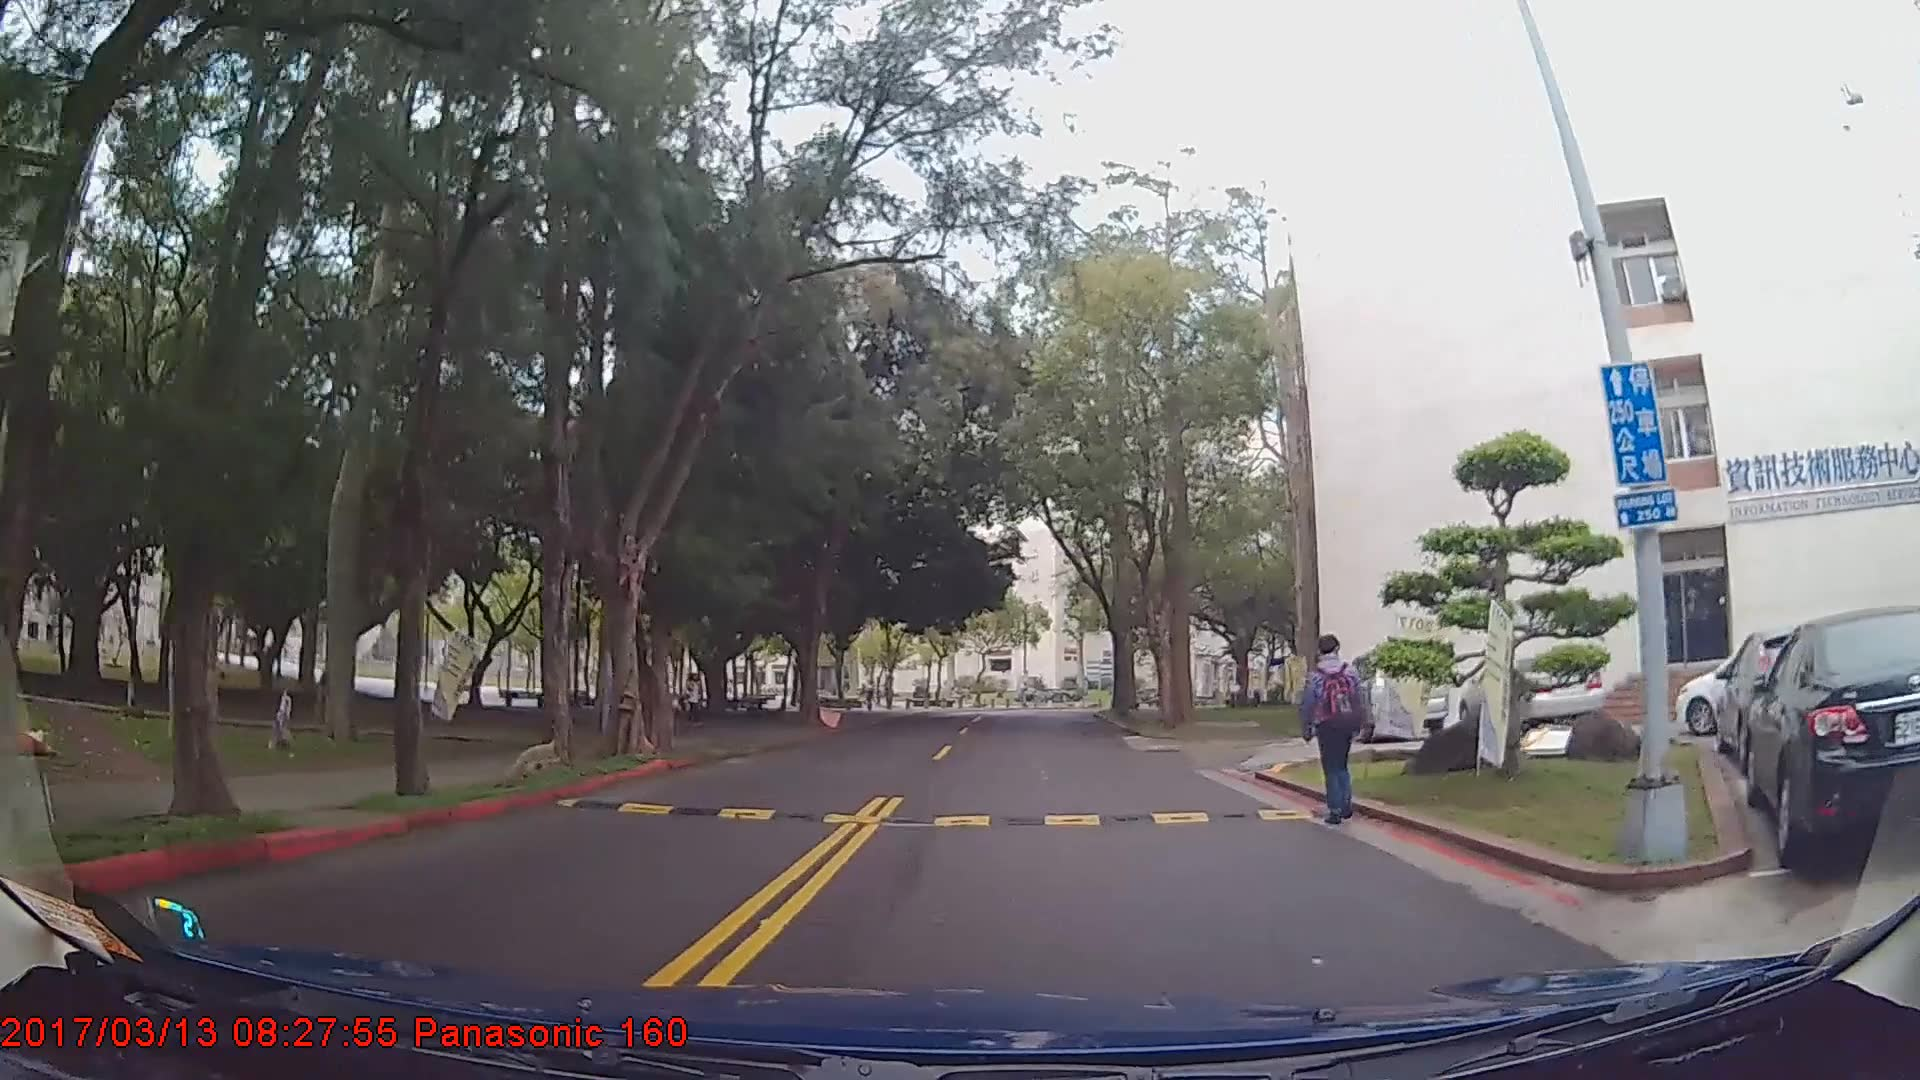pedestrian: (1300, 635, 1378, 832), (683, 670, 706, 733)
vehicle: (1743, 605, 1920, 873)
